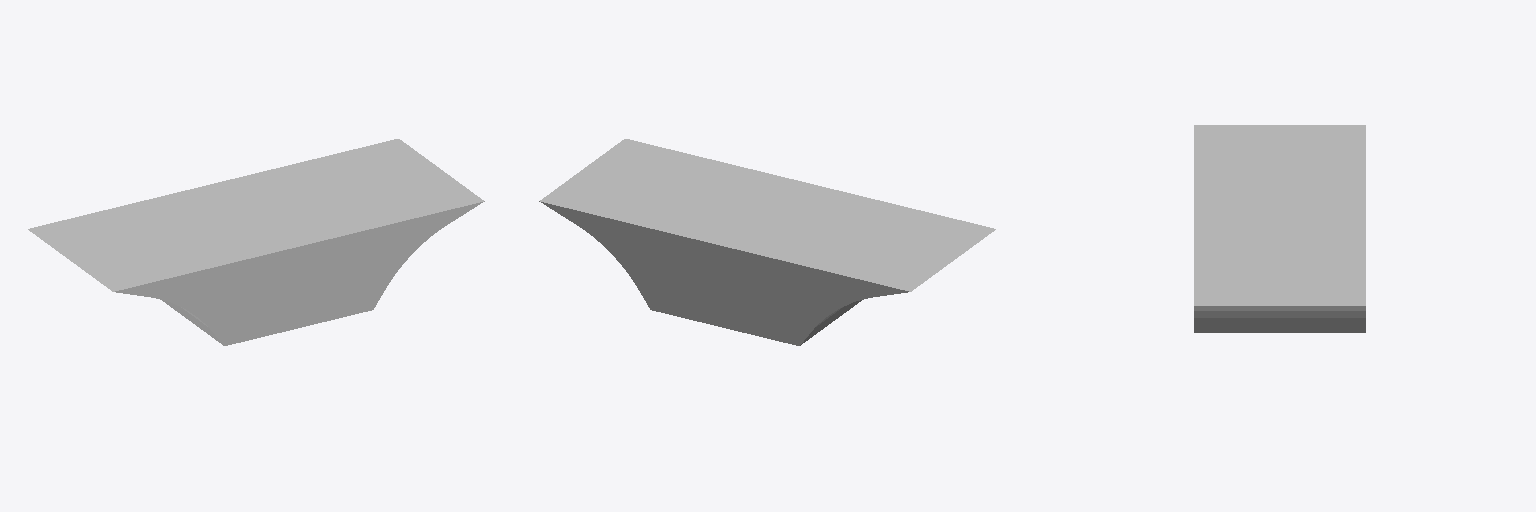
The model's file is ramp4.obj.
3 renders of one model, left to right at view 1: azimuth 30°, elevation 25°; view 2: azimuth 150°, elevation 25°; view 3: azimuth 270°, elevation 25°, orthographic.
Parts seen in each view (by area): view 1: Ramp4; view 2: Ramp4; view 3: Ramp4.
Boxes of the visible parts, <box> form: Ramp4: <box>28,139,484,345</box>; Ramp4: <box>539,139,995,345</box>; Ramp4: <box>1194,125,1365,332</box>.
Bounding box in the file's own units: 4.99 × 1.05 × 2.